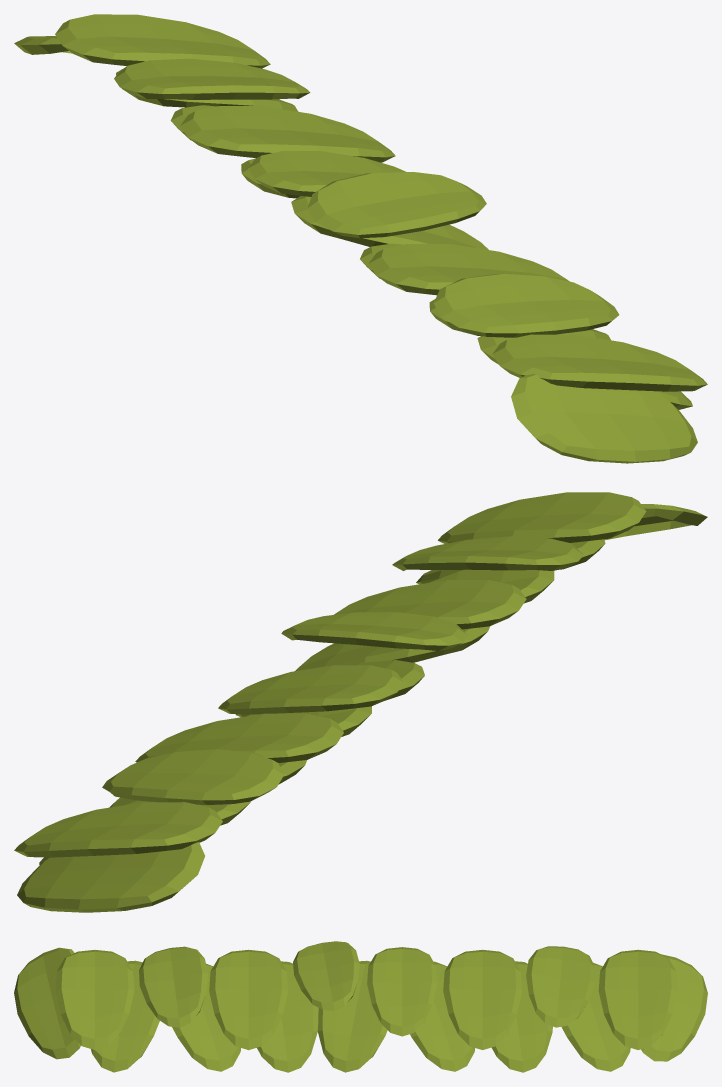
The model's file is grassside.fbx.
The picture shows the model from 3 angles, top to bottom: view 1: azimuth 30°, elevation 25°; view 2: azimuth 150°, elevation 25°; view 3: azimuth 270°, elevation 25°; orthographic projection. The views are drawn at different scales.
Visible parts, largest first — view 1: sidegrass; view 2: sidegrass; view 3: sidegrass.
Part boxes in pixels (left/top/right/bottom): sidegrass: left=14, top=14, right=707, bottom=463; sidegrass: left=14, top=492, right=707, bottom=912; sidegrass: left=14, top=941, right=707, bottom=1072.
Bounding box in the file's own units: 23.67 × 11.83 × 99.15.
